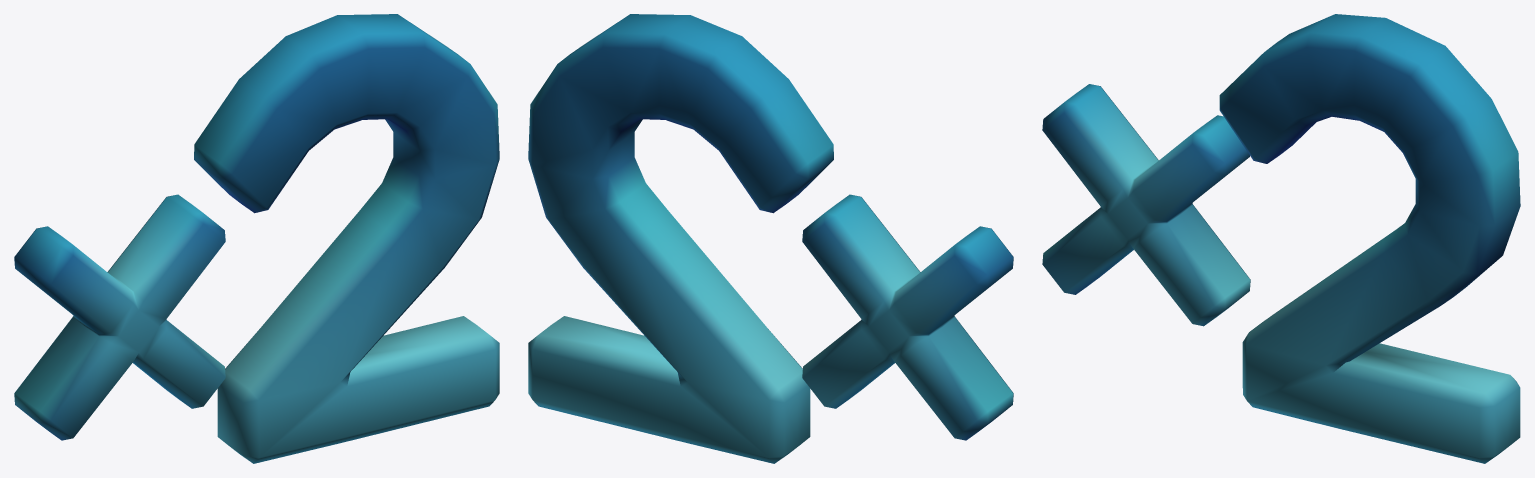
Rendered from Multiply.fbx.
The picture shows the model from 3 angles, left to right: view 1: azimuth 30°, elevation 25°; view 2: azimuth 150°, elevation 25°; view 3: azimuth 330°, elevation 25°; orthographic projection.
Visible parts, largest first — view 1: Multiplyer; view 2: Multiplyer; view 3: Multiplyer.
Part boxes in pixels (left/top/right/bottom): Multiplyer: left=14, top=14, right=499, bottom=463; Multiplyer: left=528, top=14, right=1013, bottom=463; Multiplyer: left=1042, top=14, right=1520, bottom=463.
Bounding box in the file's own units: 49.51 × 41.6 × 7.12.
